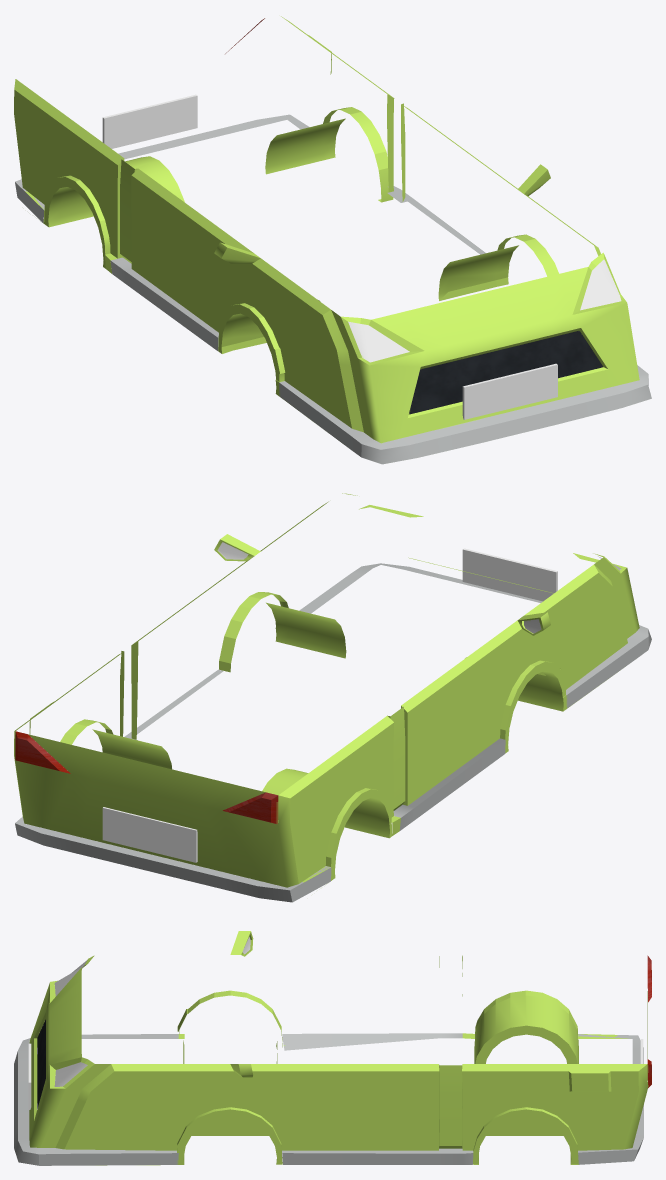
Rendered from SPORT-BOTTOM.glb.
3 views of the same model, one above another, from view 1: azimuth 30°, elevation 25°; view 2: azimuth 150°, elevation 25°; view 3: azimuth 270°, elevation 25° (orthographic). The views are drawn at different scales.
Bounding box in the file's own units: 1.88 × 0.7001 × 3.71.
2 materials, 2 textured.
